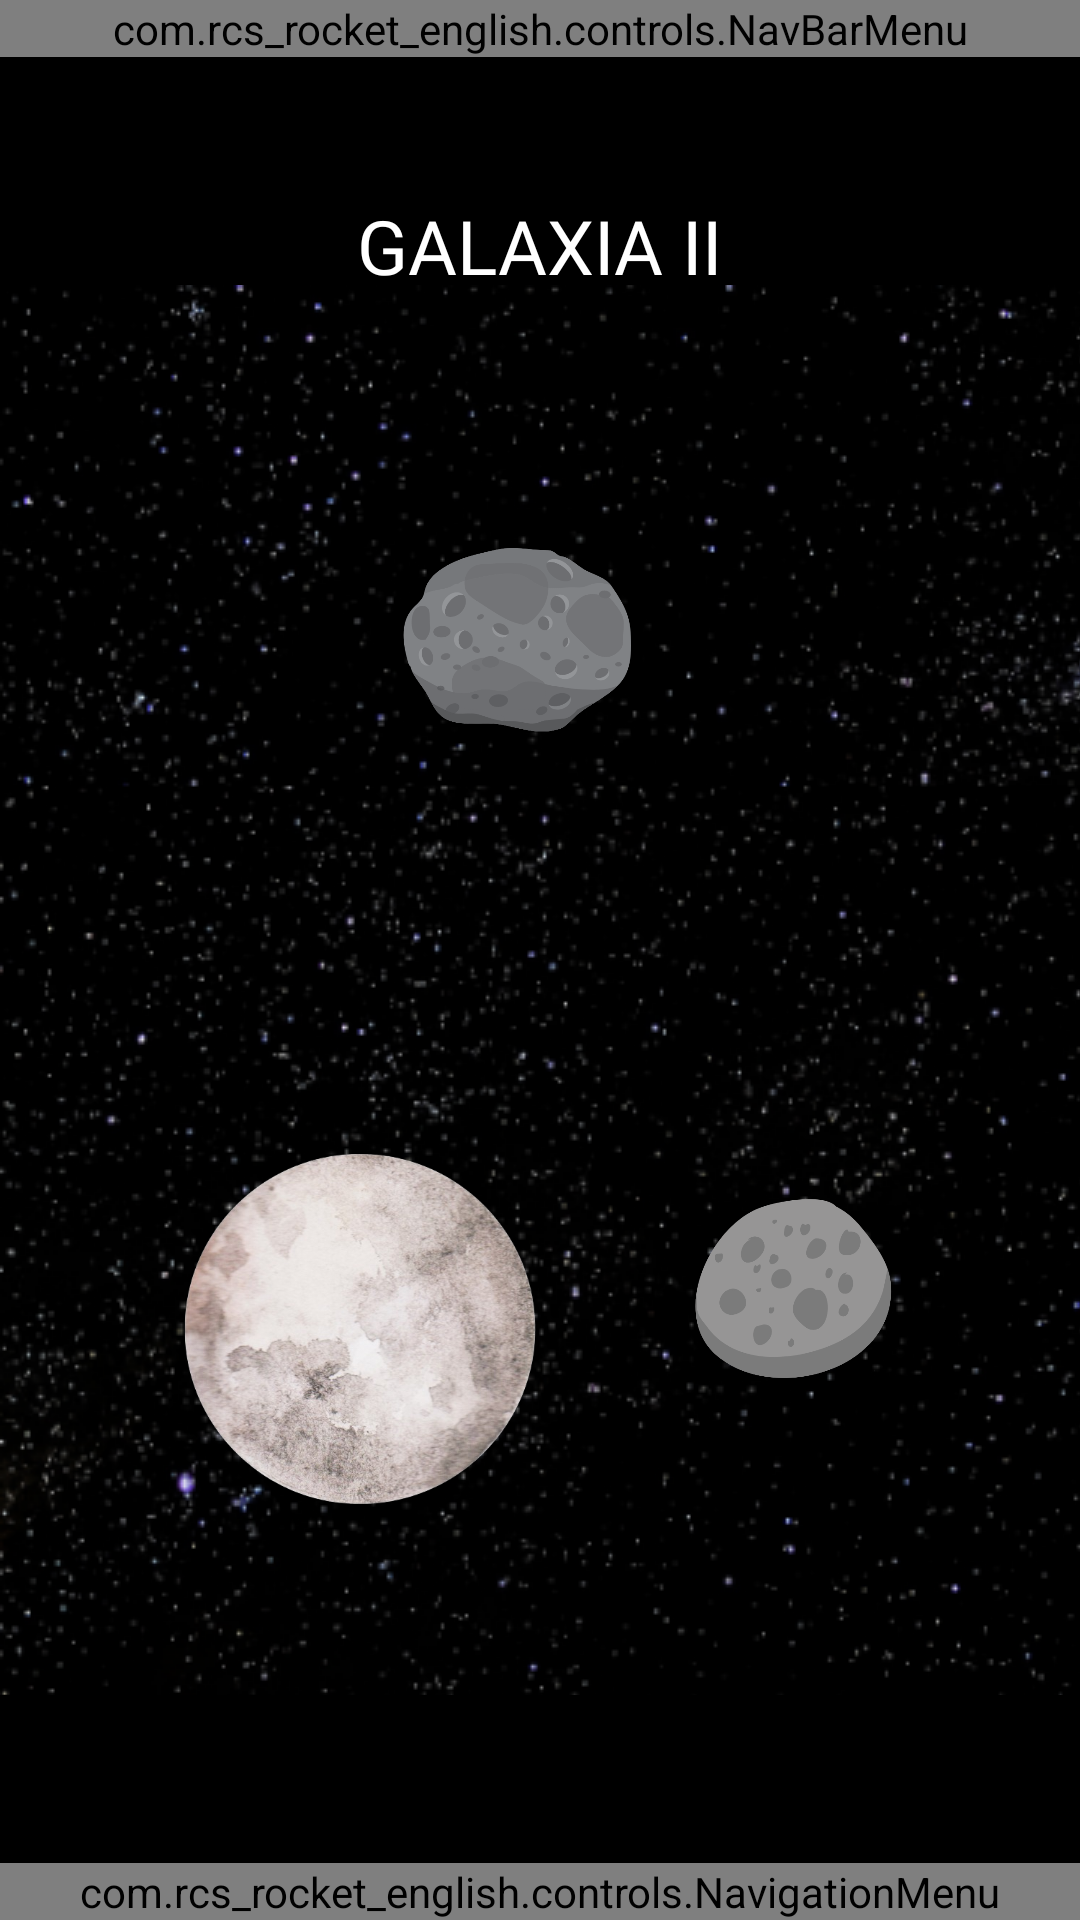

Screen size 1080*1920. Icon name, then its box in pixels as (x1, y1, x2, y2):
planet five: (180, 1149, 540, 1509)
